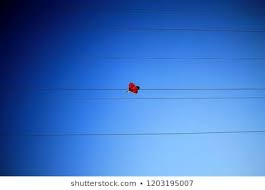kite: (121, 82, 141, 95)
